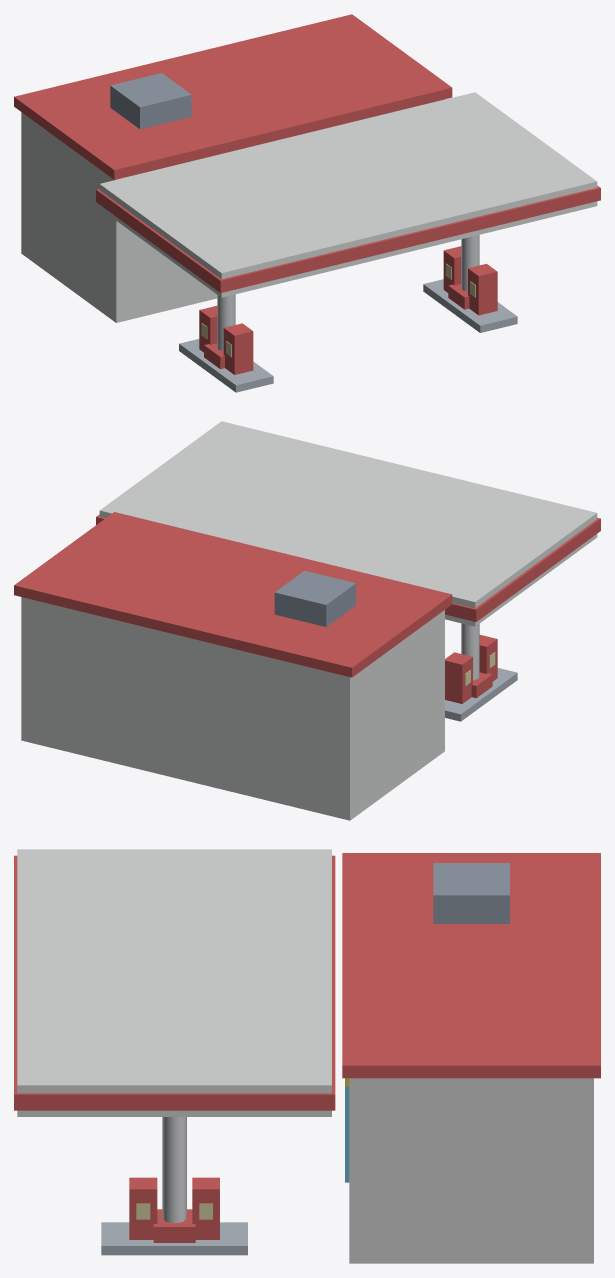
Rendered from gas-station.glb.
The picture shows the model from 3 angles, top to bottom: view 1: azimuth 30°, elevation 25°; view 2: azimuth 150°, elevation 25°; view 3: azimuth 270°, elevation 25°; orthographic projection. The views are drawn at different scales.
Visible parts, largest first — view 1: Root; view 2: Root; view 3: Root.
Part boxes in pixels (x1,y1,x2,y2): Root: (14, 14, 600, 392); Root: (14, 421, 600, 820); Root: (14, 849, 600, 1263).
Size of the model in its own units: 16.2 by 7.45 by 16.8.
